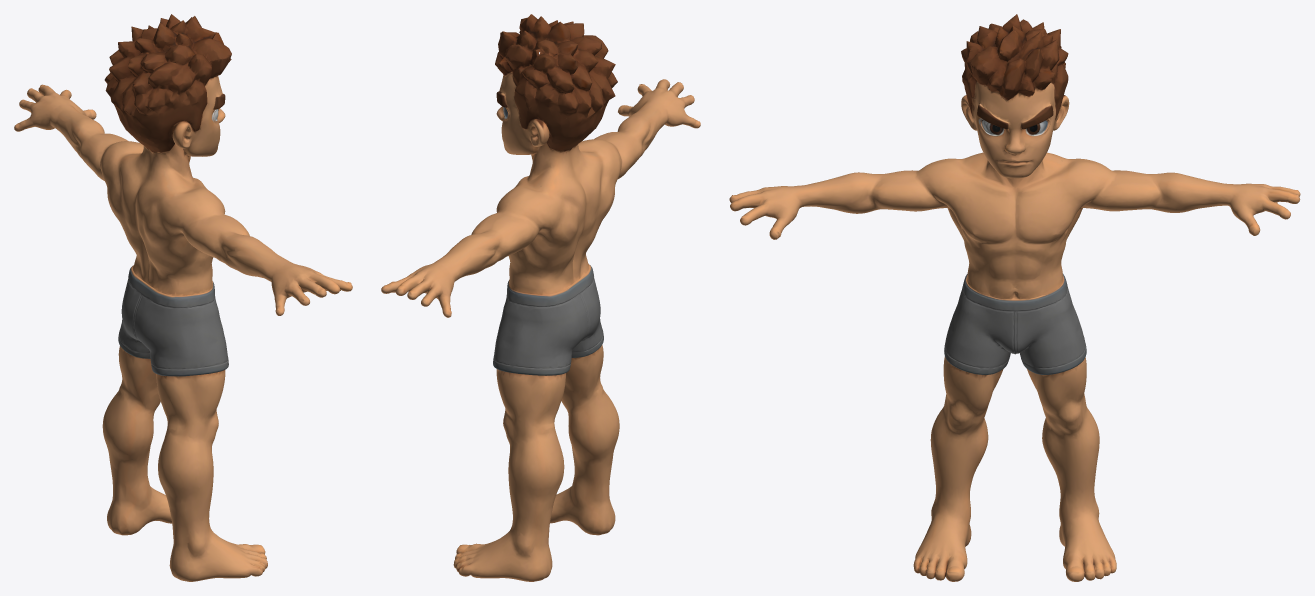
The model's file is M01_tripo.glb.
3 renders of one model, left to right at view 1: azimuth 30°, elevation 25°; view 2: azimuth 150°, elevation 25°; view 3: azimuth 270°, elevation 25°, orthographic.
Parts seen in each view (by area): view 1: tripo_node_bdf6f084-11fc-41a5-b131-45a0b7f4f10b; view 2: tripo_node_bdf6f084-11fc-41a5-b131-45a0b7f4f10b; view 3: tripo_node_bdf6f084-11fc-41a5-b131-45a0b7f4f10b.
Part boxes in pixels (bbox=[...]): tripo_node_bdf6f084-11fc-41a5-b131-45a0b7f4f10b: bbox=[14, 14, 352, 581]; tripo_node_bdf6f084-11fc-41a5-b131-45a0b7f4f10b: bbox=[381, 14, 700, 581]; tripo_node_bdf6f084-11fc-41a5-b131-45a0b7f4f10b: bbox=[729, 14, 1300, 581].
Size of the model in its own units: 0.229 by 0.9793 by 0.9461.
1 material, 1 textured.
